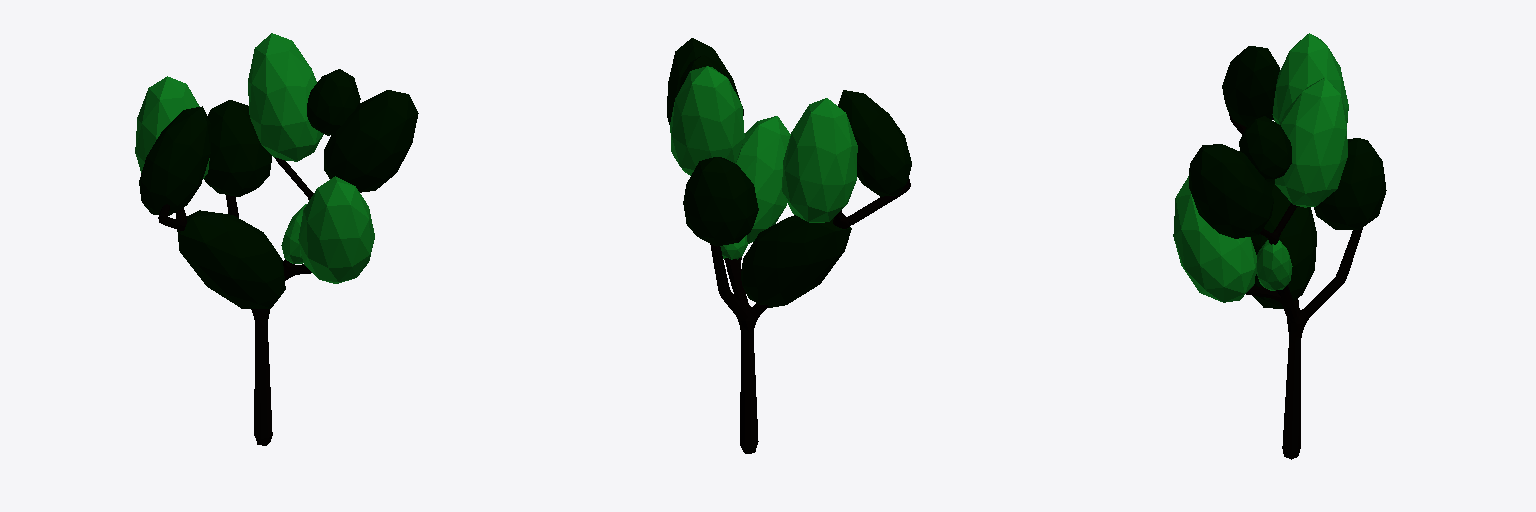
Rendered from vegetaux_arbre.obj.
3 views of the same model, side by side, from view 1: azimuth 30°, elevation 25°; view 2: azimuth 150°, elevation 25°; view 3: azimuth 270°, elevation 25° (orthographic).
Parts seen in each view (by area): view 1: Icosphere, Plane; view 2: Icosphere, Plane; view 3: Icosphere, Plane.
Boxes of the visible parts, x1,y1,x2,y2 form: Icosphere: [135, 33, 418, 308]; Plane: [158, 157, 313, 445]; Icosphere: [667, 38, 911, 307]; Plane: [710, 179, 910, 453]; Icosphere: [1173, 33, 1386, 308]; Plane: [1229, 114, 1362, 459].
Size of the model in its own units: 2.26 by 3.37 by 1.65.